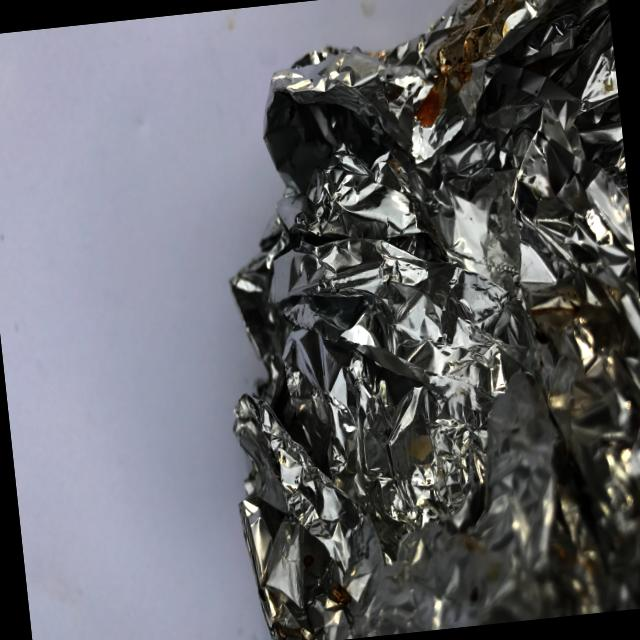Metal: (178, 0, 640, 640)
